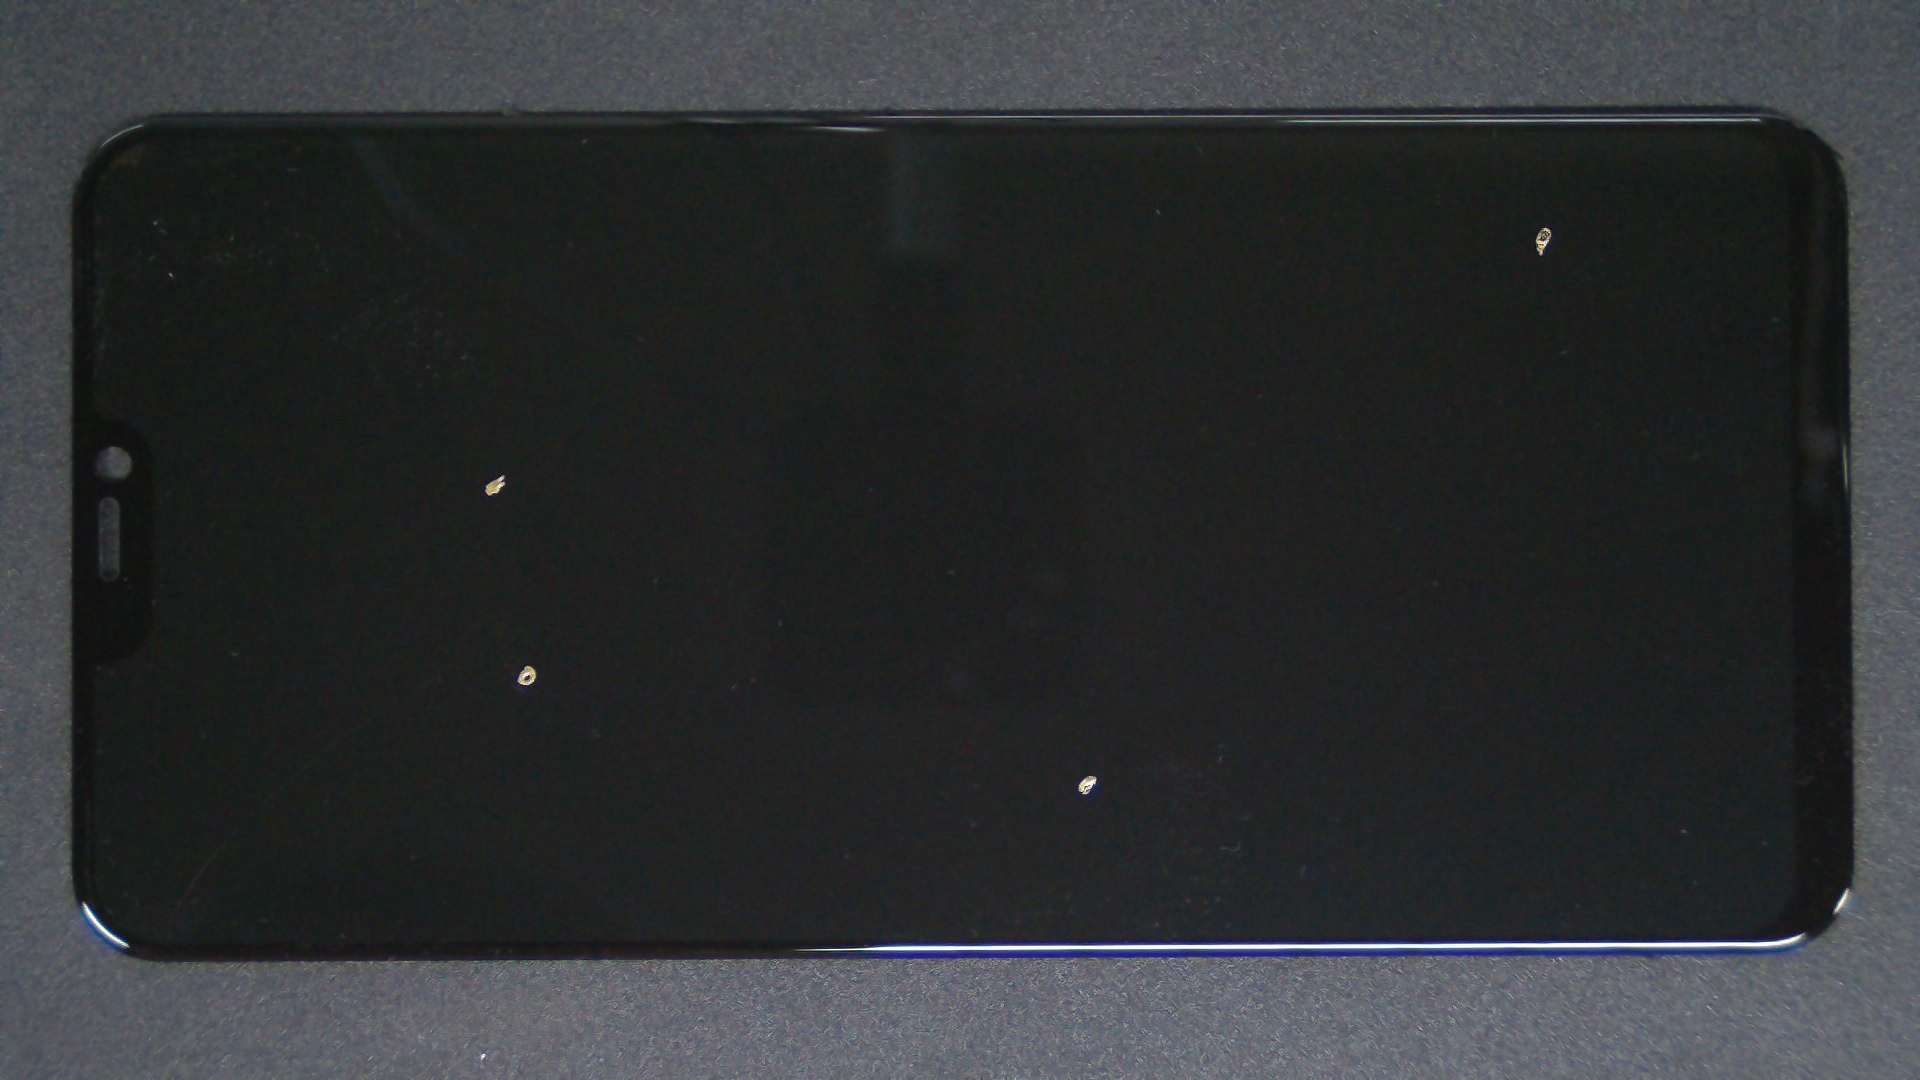oil: (547, 382, 1630, 1080), (265, 331, 793, 996), (770, 112, 1920, 339), (253, 235, 756, 708)
